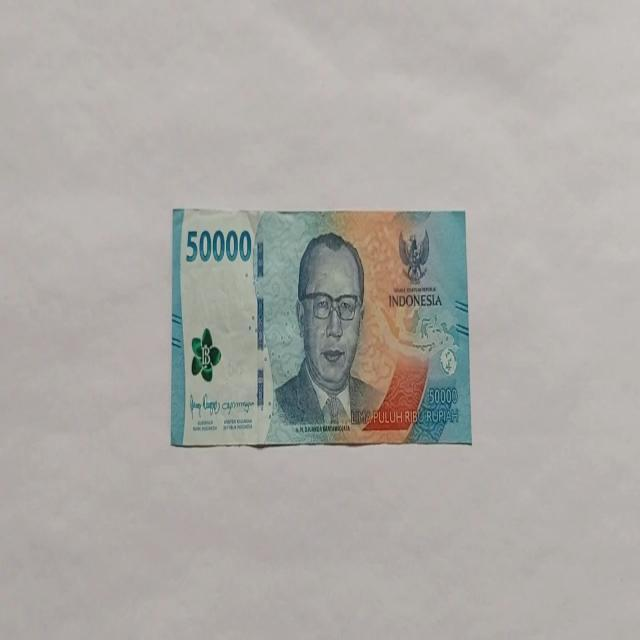lima puluh ribu rupiah: (170, 206, 472, 449), (266, 230, 384, 438)
